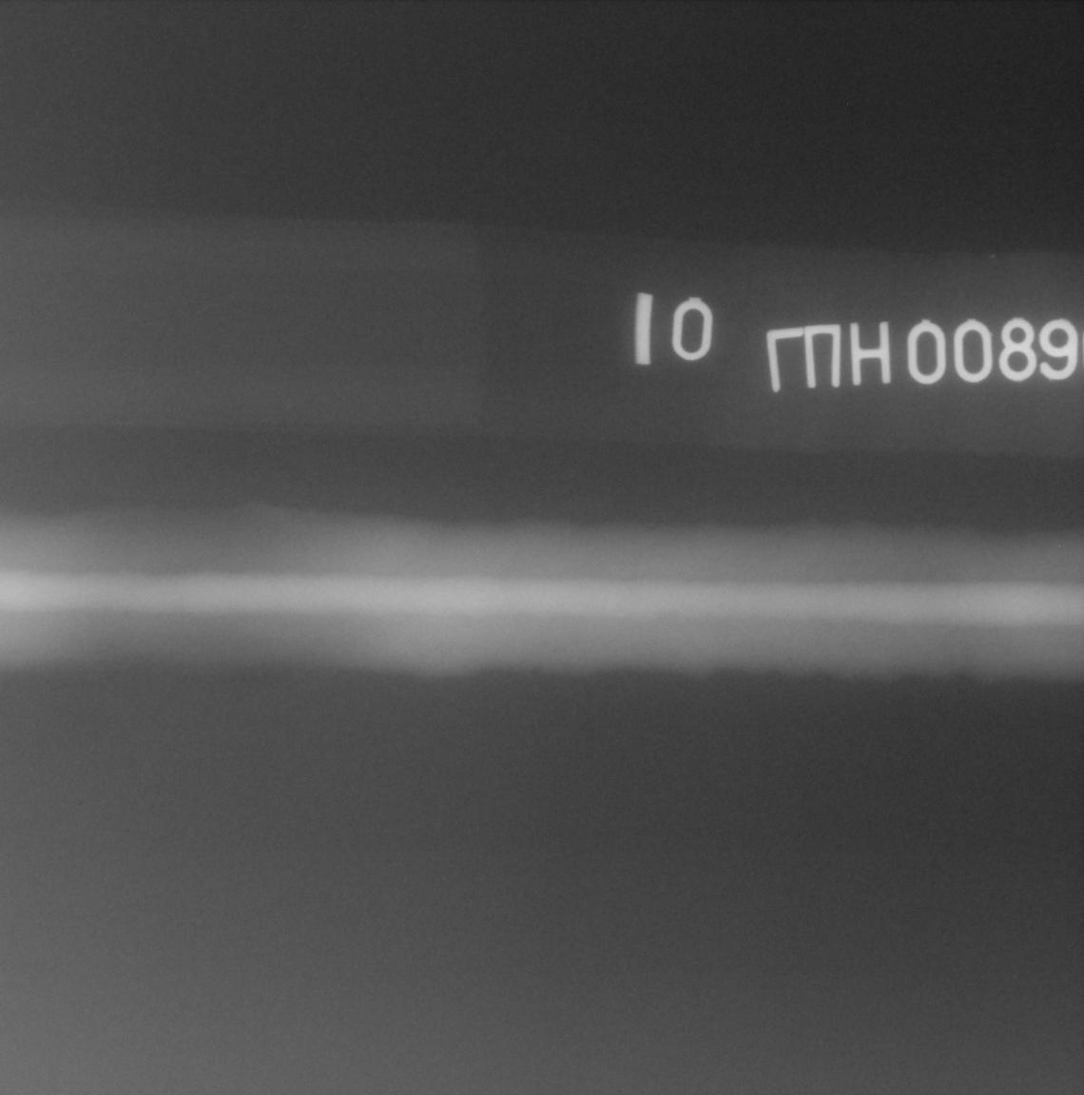Inclusion: (541, 642, 566, 656)
